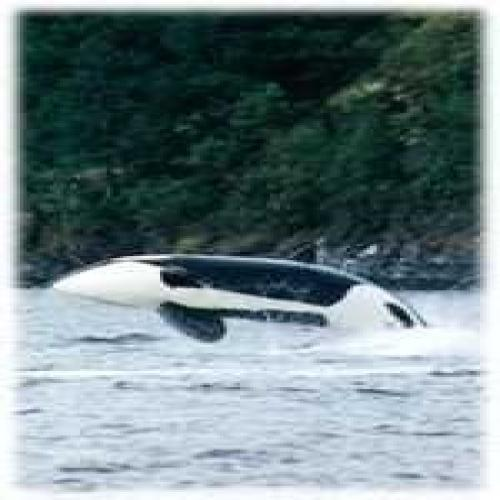killer_whale-endangered: (30, 232, 447, 359)
